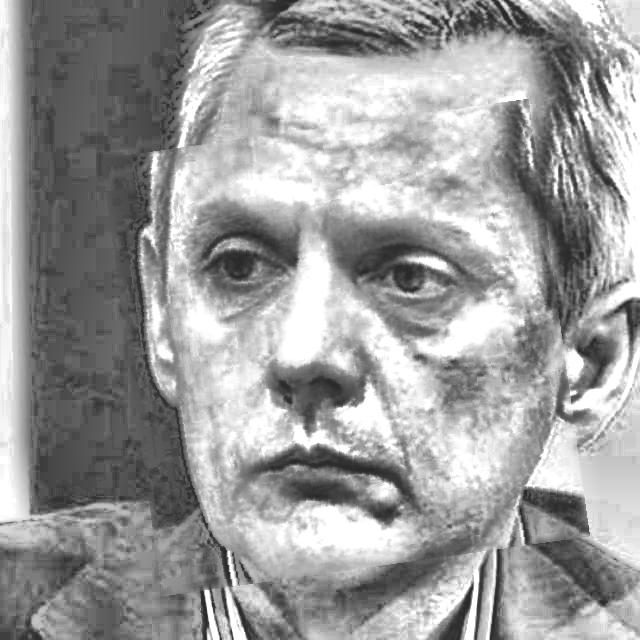sad: (116, 113, 576, 583)
